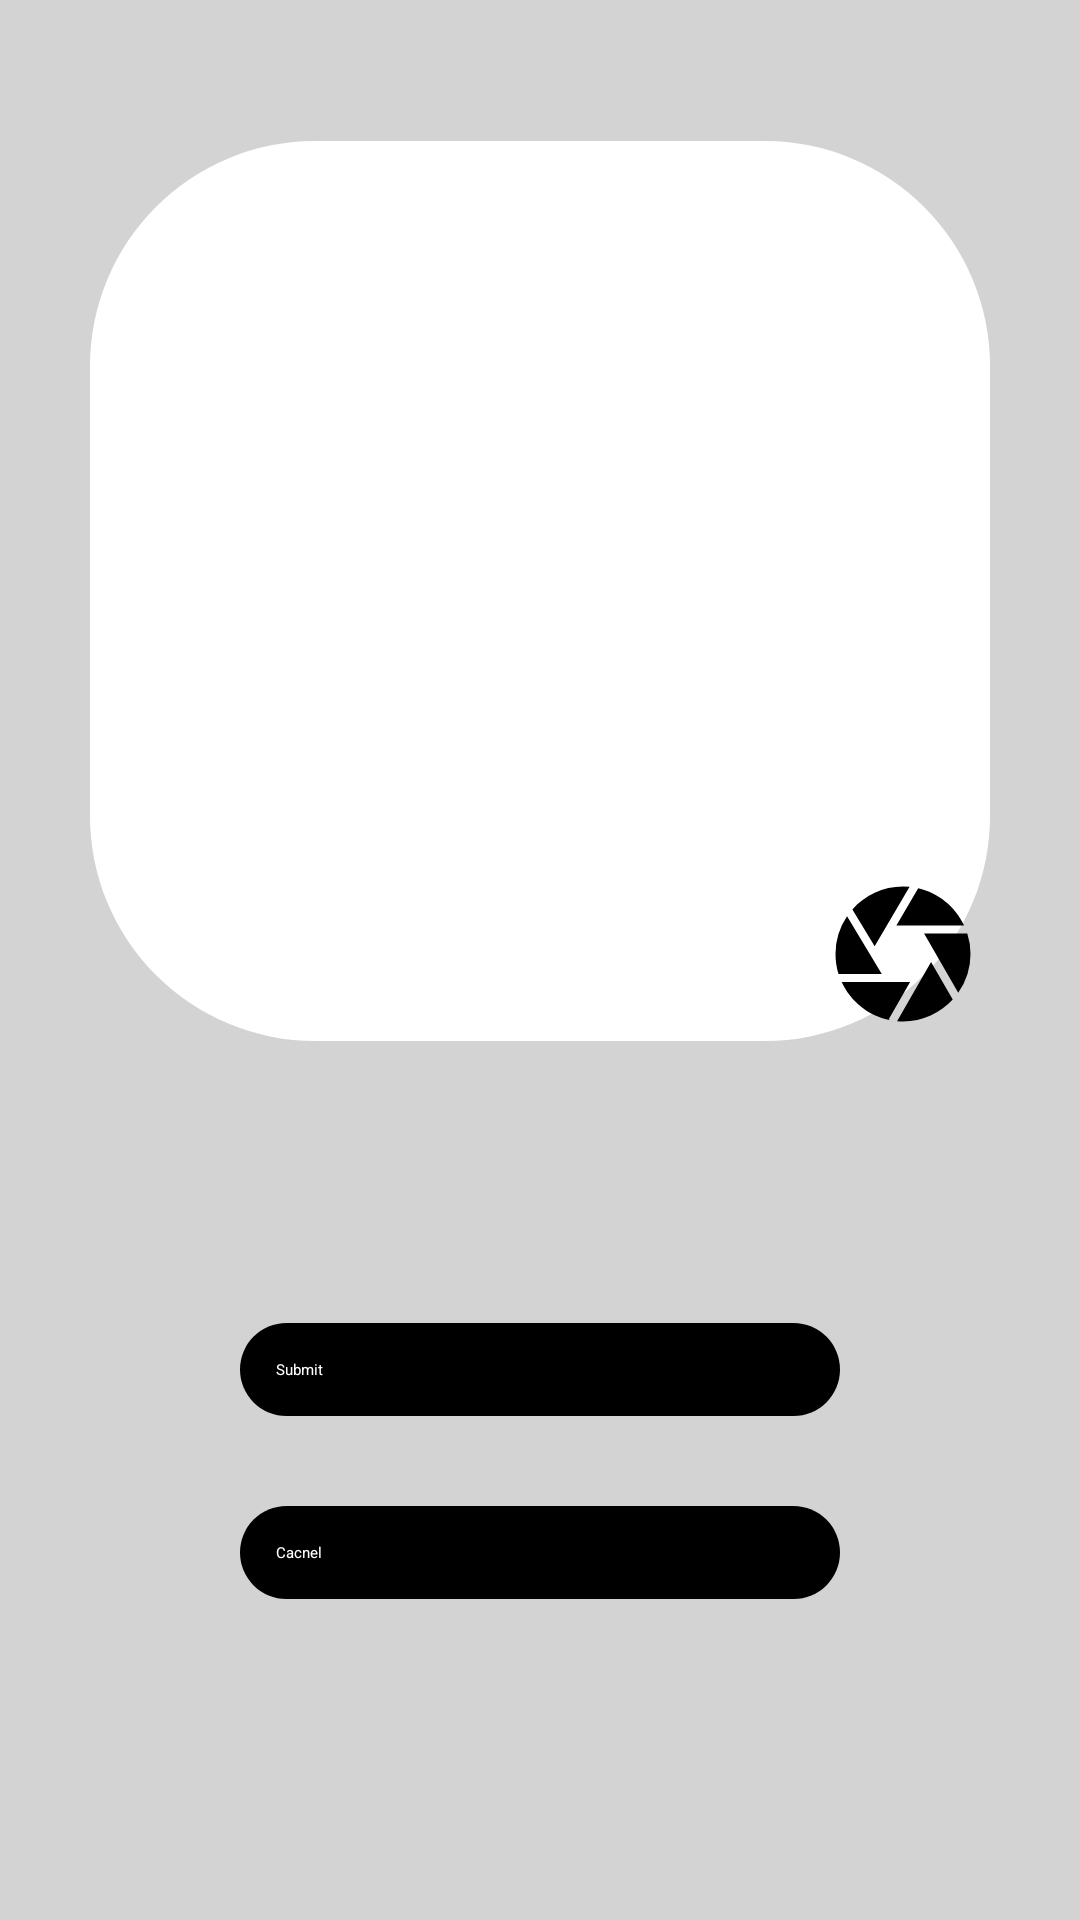

Icon click points for this 1080px×1920px phone screenshot, format [x,y]:
camera shutter: [903,954]
